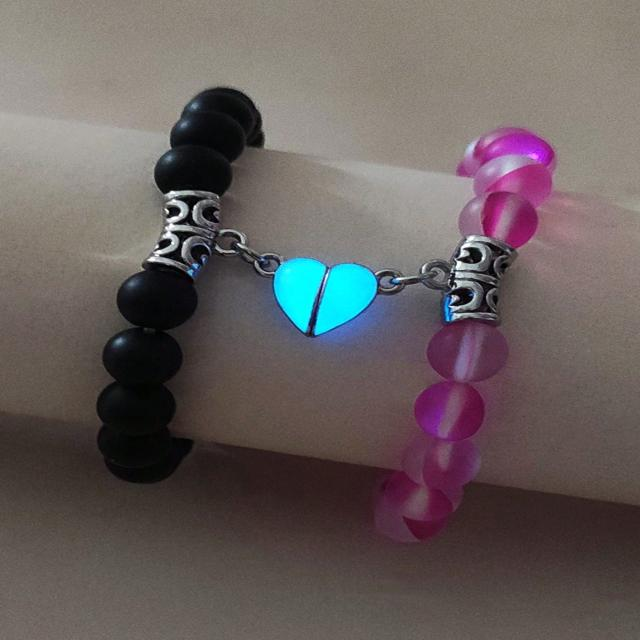bracelet: (309, 90, 640, 544), (61, 60, 330, 533)
